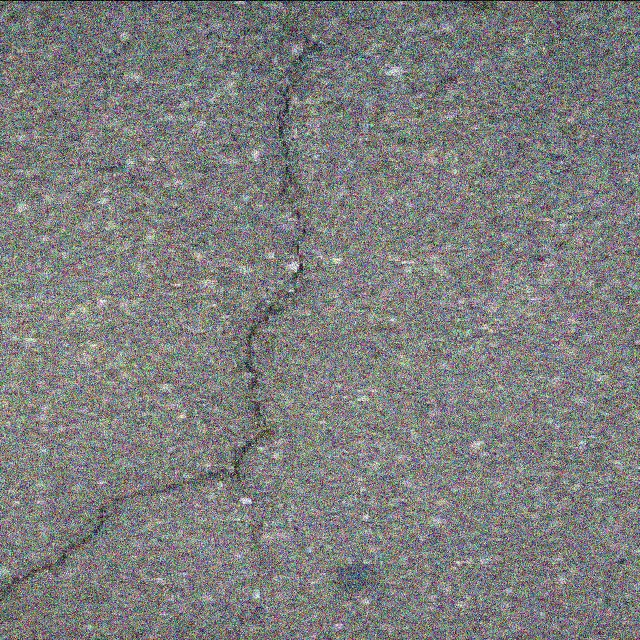SurfaceCrack: (0, 50, 342, 592)
